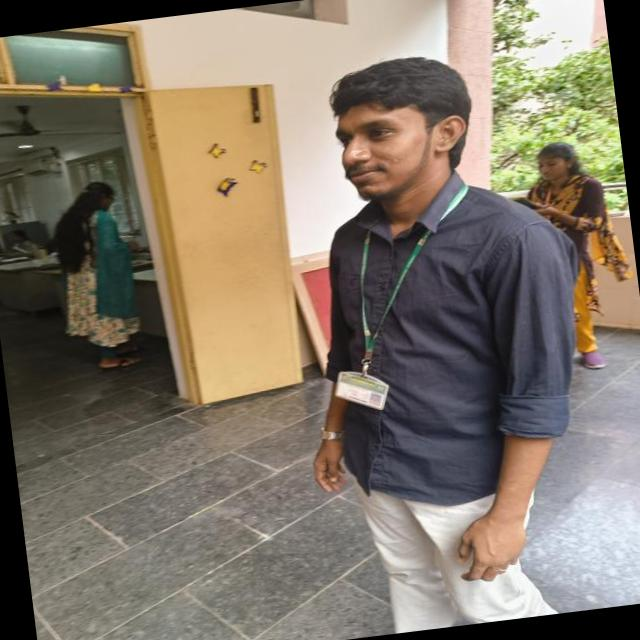id_card: (308, 182, 484, 420)
